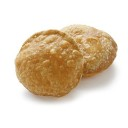poori: (15, 29, 83, 97), (60, 25, 116, 77)
